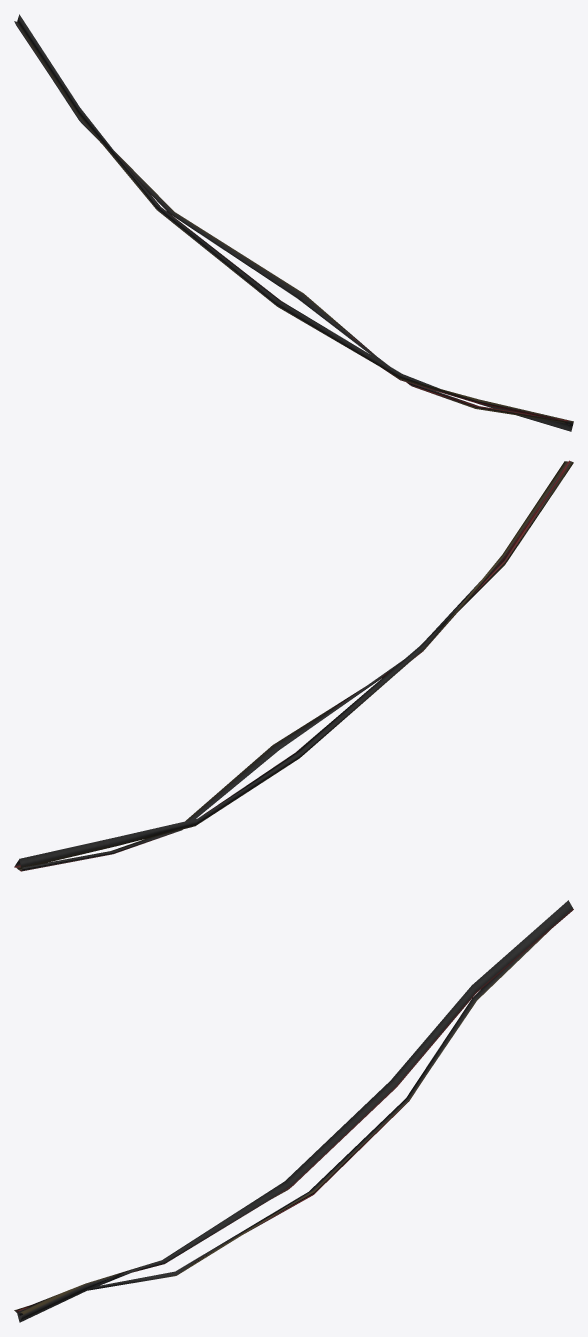
File: ElectricWire02_Art.glb
The picture shows the model from 3 angles, top to bottom: view 1: azimuth 30°, elevation 25°; view 2: azimuth 150°, elevation 25°; view 3: azimuth 330°, elevation 25°; orthographic projection.
Visible parts, largest first — view 1: ElectricWire02_Art; view 2: ElectricWire02_Art; view 3: ElectricWire02_Art.
Part boxes in pixels (x1,y1,x2,y2): ElectricWire02_Art: (14, 14, 573, 431); ElectricWire02_Art: (14, 460, 573, 871); ElectricWire02_Art: (14, 900, 573, 1322).
Size of the model in its own units: 0.5942 by 1.44 by 15.29.
1 material, 1 textured.
